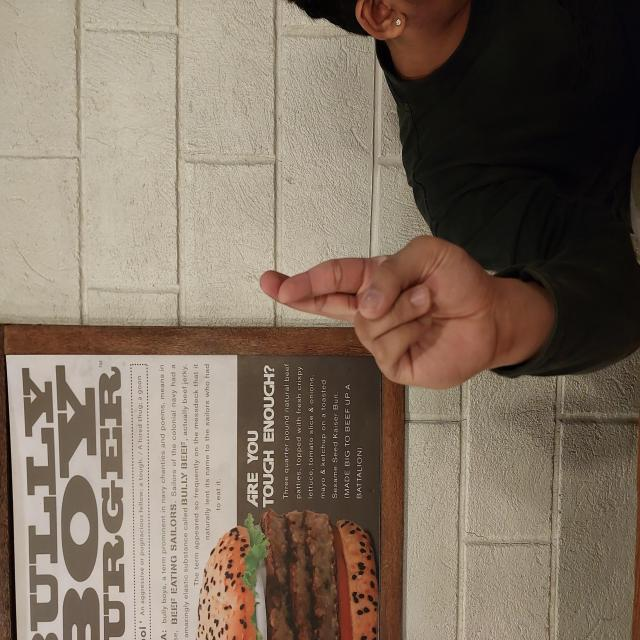R: (247, 256, 407, 498)
